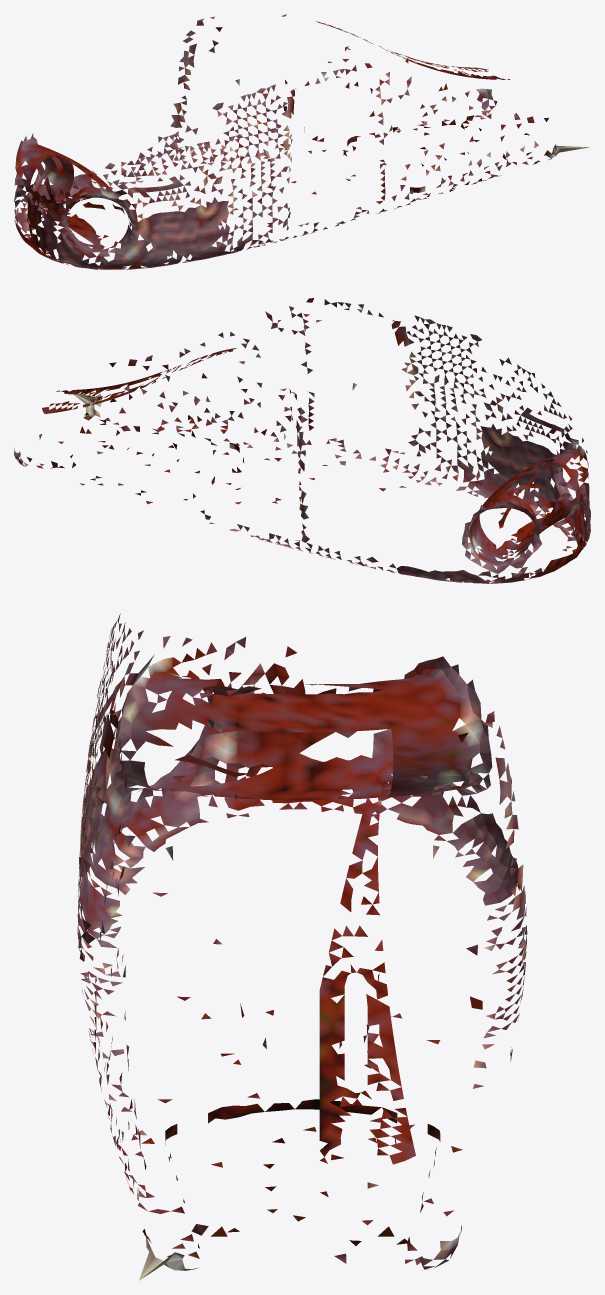
3 views of the same model, one above another, from view 1: azimuth 30°, elevation 25°; view 2: azimuth 150°, elevation 25°; view 3: azimuth 270°, elevation 25° (orthographic). The views are drawn at different scales.
Bounding box in the file's own units: 2 × 0.5748 × 0.7481.
